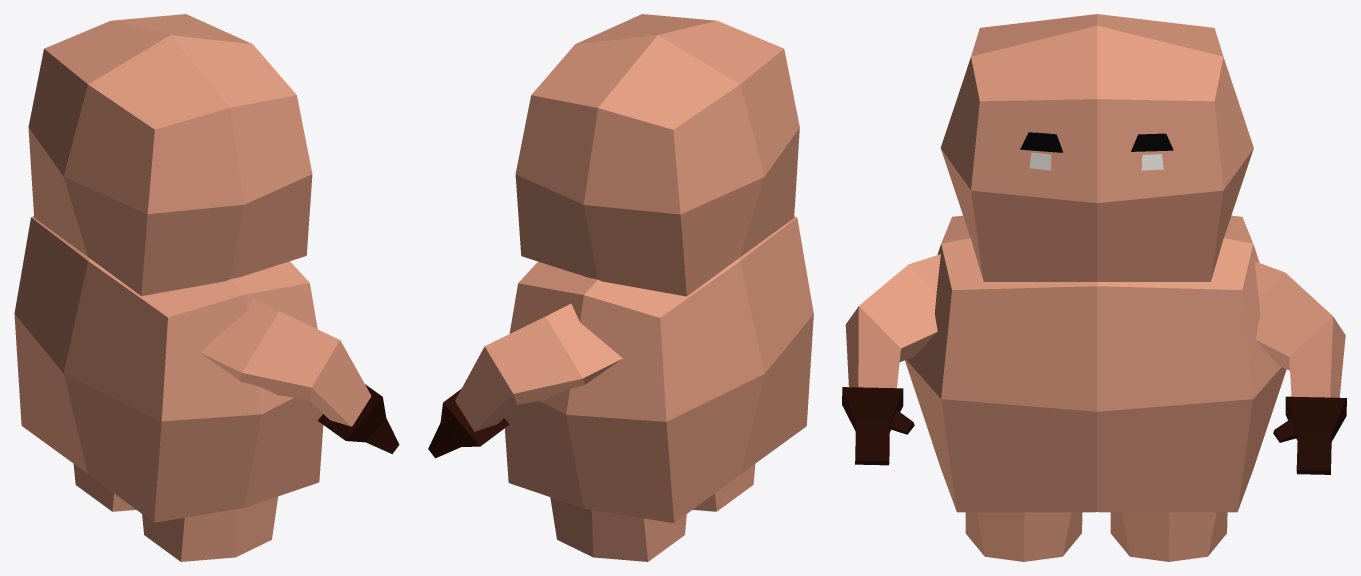
The model's file is Player.fbx.
The picture shows the model from 3 angles, left to right: view 1: azimuth 30°, elevation 25°; view 2: azimuth 150°, elevation 25°; view 3: azimuth 270°, elevation 25°; orthographic projection. The views are drawn at different scales.
Parts seen in each view (by area): view 1: Body; view 2: Body; view 3: Body.
Part boxes in pixels (left/top/right/bottom): Body: left=14, top=14, right=399, bottom=561; Body: left=428, top=14, right=813, bottom=561; Body: left=842, top=14, right=1346, bottom=561.
Size of the model in its own units: 79.81 by 161 by 146.
